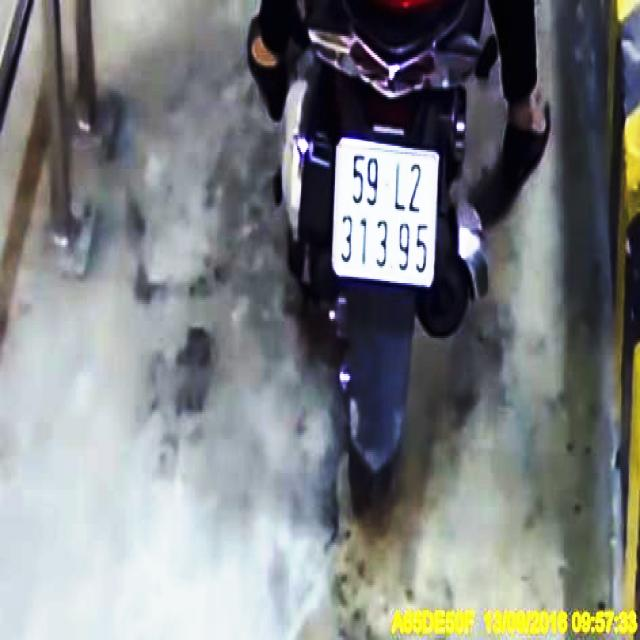license_plate: (333, 135, 440, 286)
